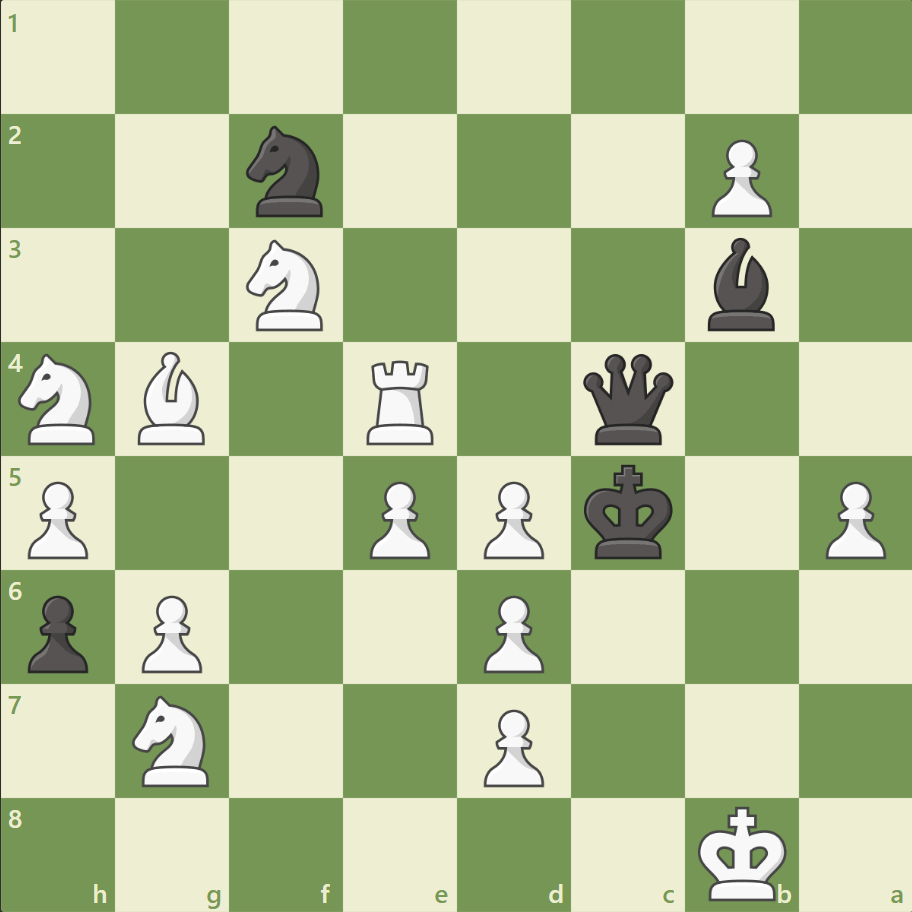B: (131, 347, 215, 449)
K: (692, 798, 792, 906)
N: (124, 688, 222, 791), (238, 234, 335, 337), (11, 348, 108, 450)
P: (474, 700, 549, 791), (474, 586, 549, 677), (133, 586, 208, 677), (474, 473, 549, 564), (20, 473, 95, 564), (701, 132, 776, 223), (815, 473, 889, 564), (361, 473, 435, 564)
R: (360, 352, 442, 449)
b: (698, 233, 782, 336)
k: (579, 458, 679, 566)
n: (238, 121, 335, 223)
p: (20, 586, 95, 677)
q: (578, 349, 677, 449)
